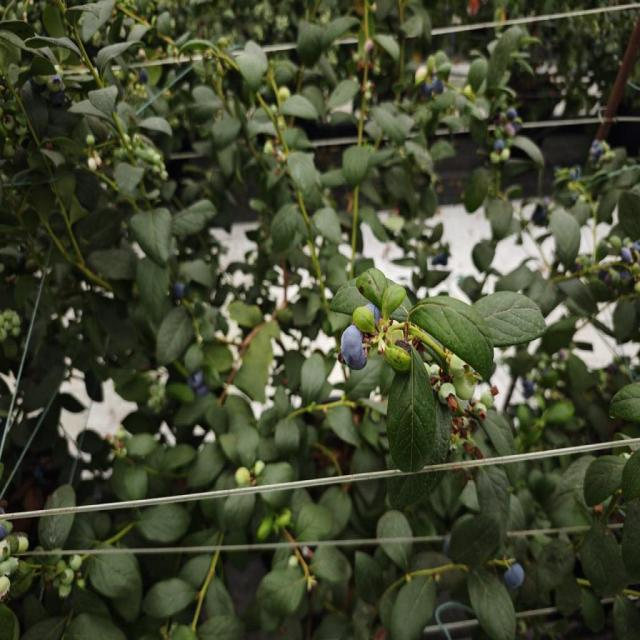RipeBlueBerry: (342, 321, 370, 378), (508, 562, 536, 590)
